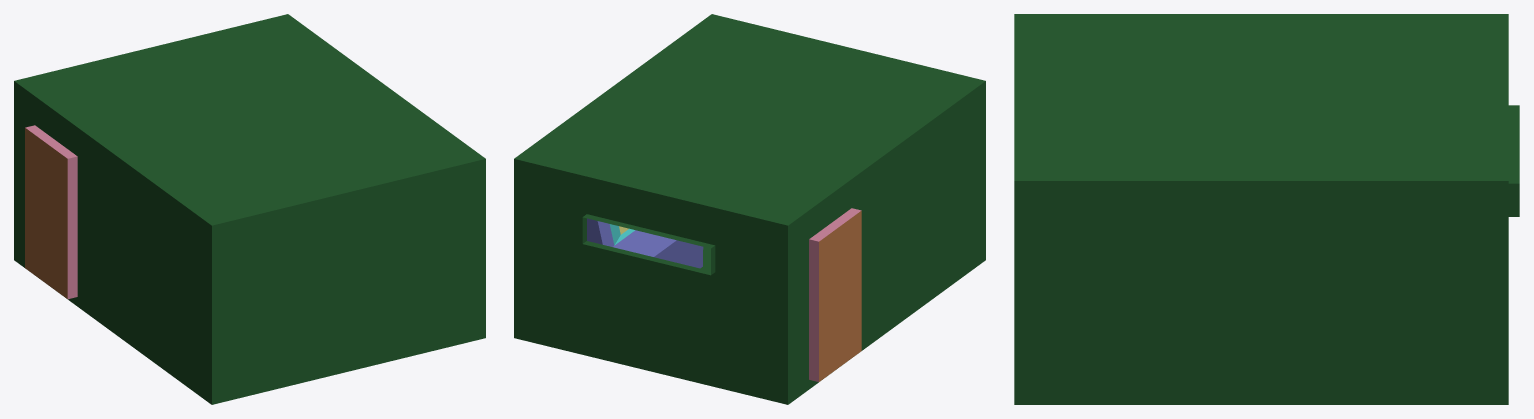
File: room.glb
3 views of the same model, side by side, from view 1: azimuth 30°, elevation 25°; view 2: azimuth 150°, elevation 25°; view 3: azimuth 270°, elevation 25° (orthographic). The views are drawn at different scales.
Parts seen in each view (by area): view 1: Cube; view 2: Cube, Cube.002; view 3: Cube.
Boxes of the visible parts, left/top/right/bottom form: Cube: left=14, top=14, right=485, bottom=404; Cube: left=514, top=14, right=985, bottom=404; Cube.002: left=587, top=218, right=703, bottom=268; Cube: left=1014, top=14, right=1519, bottom=404.
Size of the model in its own units: 4.14 by 2.51 by 5.11.
3 materials, 3 textured.
